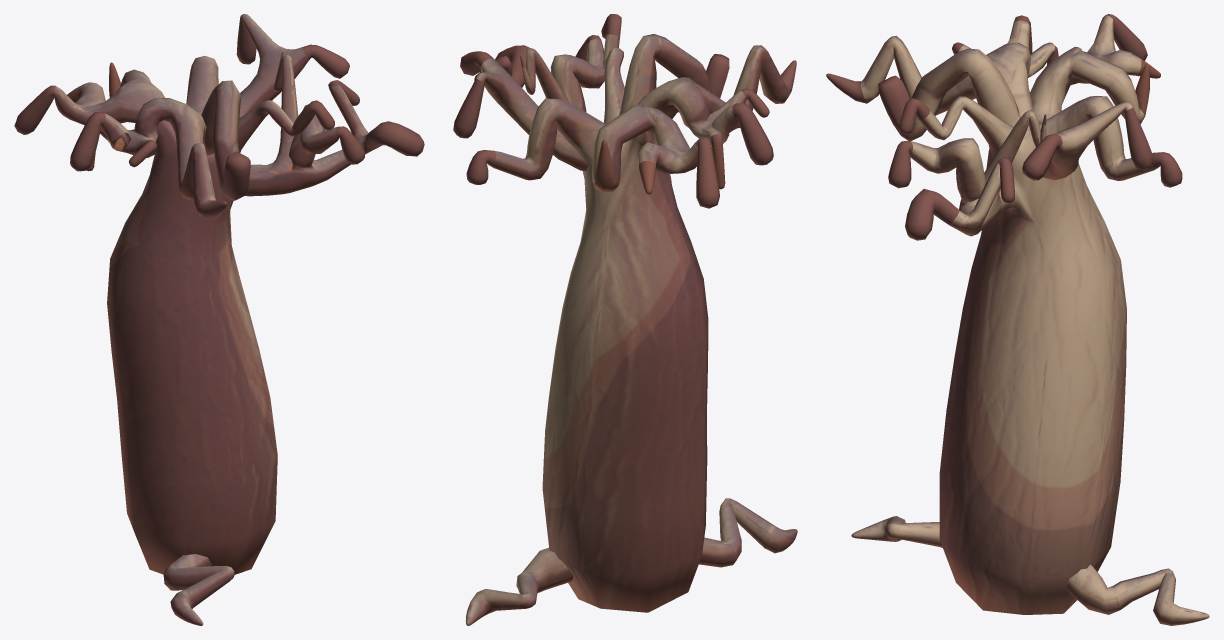
Rendered from AtrocarpusTree.glb.
3 views of the same model, side by side, from view 1: azimuth 30°, elevation 25°; view 2: azimuth 150°, elevation 25°; view 3: azimuth 270°, elevation 25° (orthographic). The views are drawn at different scales.
Visible parts, largest first — view 1: tree2_gltf; view 2: tree2_gltf; view 3: tree2_gltf.
Part boxes in pixels (x1,y1,x2,y2): tree2_gltf: [14, 14, 424, 625]; tree2_gltf: [453, 14, 797, 625]; tree2_gltf: [826, 14, 1209, 625].
Size of what is drawn, in the model's own units: 3.8 by 5.91 by 3.74.
1 material, 1 textured.
